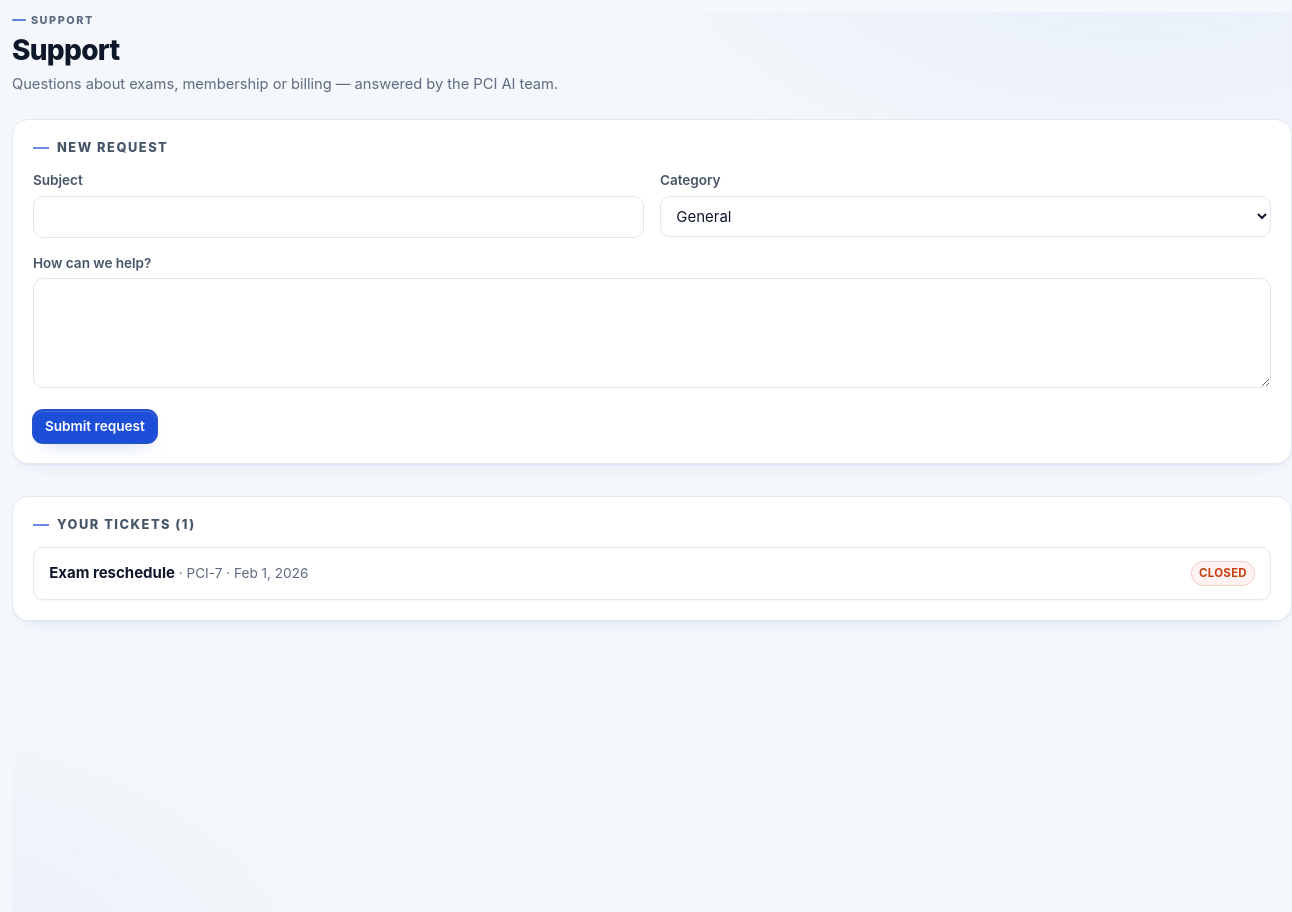
Test: Support (ticket lifecycle) › shows the recorded rating (no prompt) once a ticket has been rated
Click the button "Exam reschedule · PCI-7 · Feb 1, 2026 closed".
click(112, 573)  # box [49,561,1255,586]
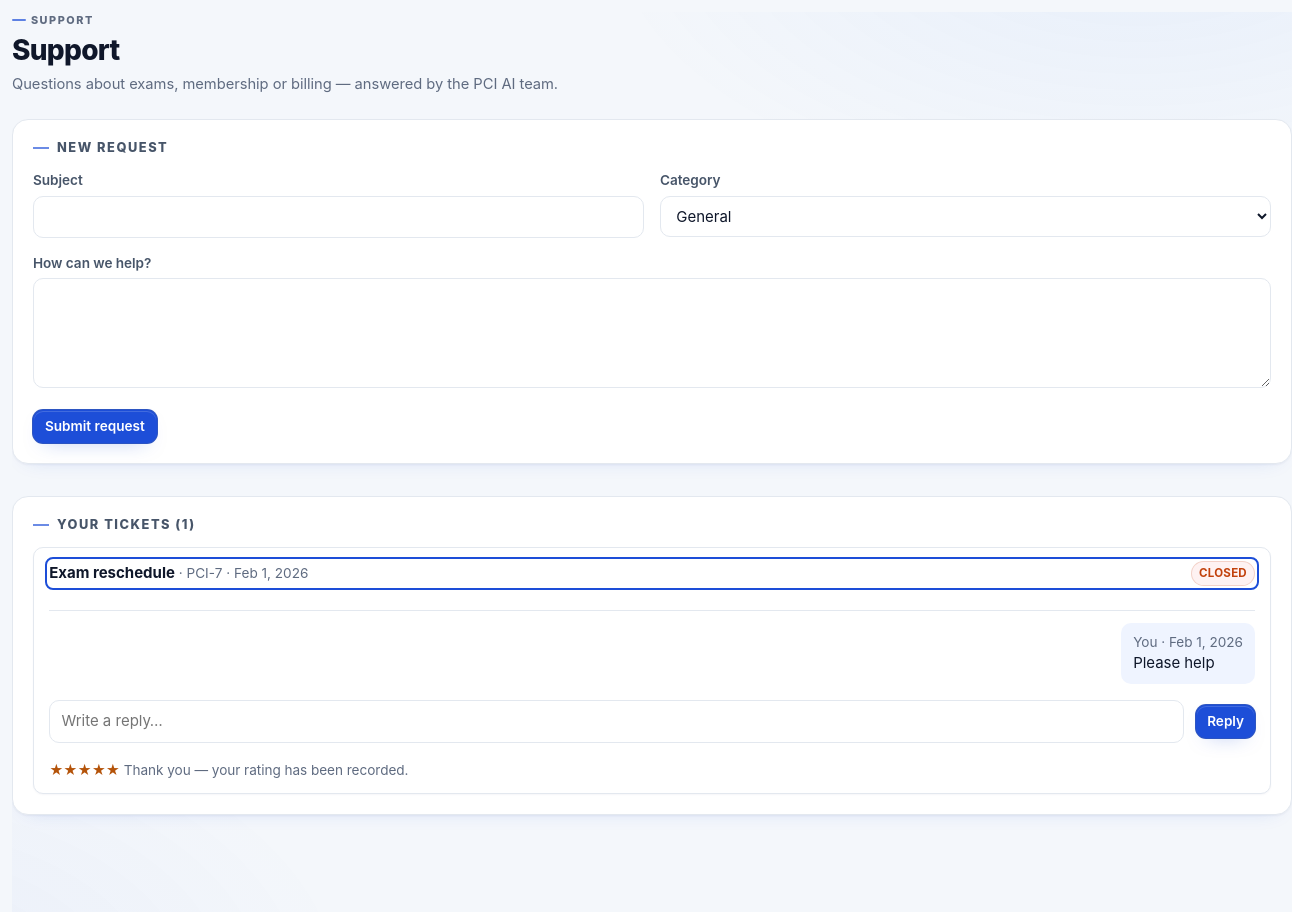
Result: the text "Thank you — your rating has been recorded." is shown at [124,762,408,778]
